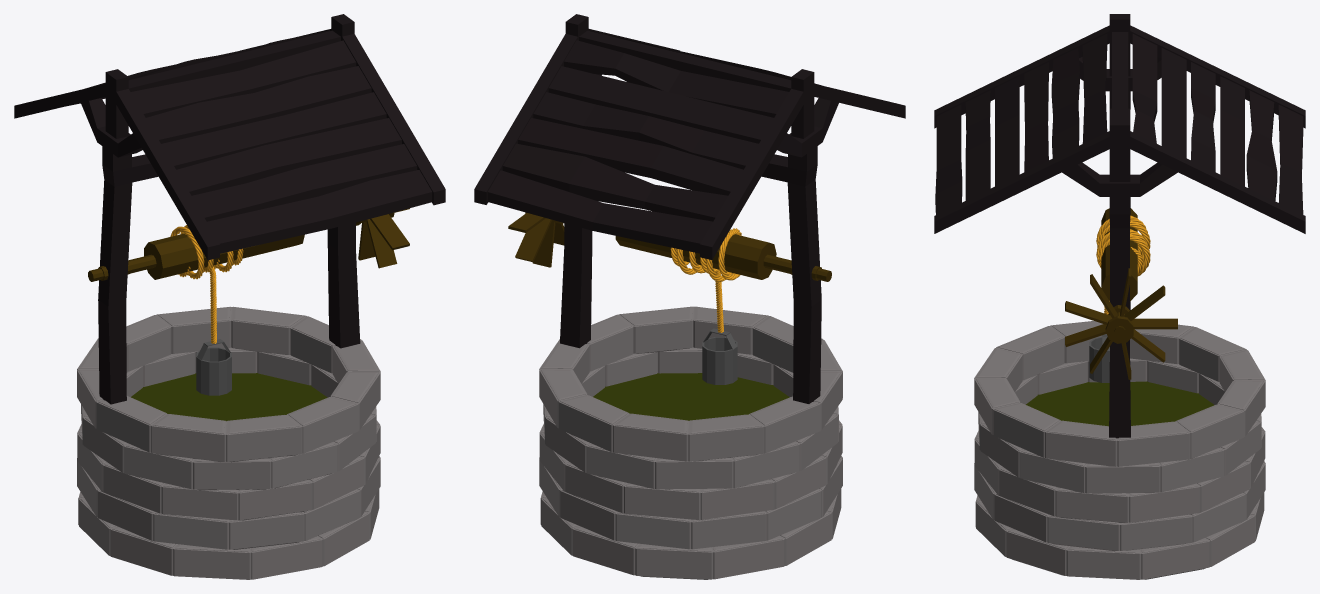
Rendered from Wells.fbx.
3 views of the same model, side by side, from view 1: azimuth 30°, elevation 25°; view 2: azimuth 150°, elevation 25°; view 3: azimuth 270°, elevation 25° (orthographic). The views are drawn at different scales.
Parts seen in each view (by area): view 1: Cylinder.002, Cylinder.006, Circle, Cylinder.001, Cylinder, Circle.001, Circle.002; view 2: Cylinder.002, Cylinder.006, Circle, Cylinder.001, Cylinder, Circle.001, Circle.002; view 3: Cylinder.006, Cylinder.002, Circle, Cylinder.001, Circle.001, Cylinder, Circle.002.
Boxes of the visible parts, x1,y1,x2,y2 form: Cylinder.002: (14,14,445,404); Cylinder.006: (77,306,380,579); Circle: (131,373,327,421); Cylinder.001: (88,208,409,281); Cylinder: (196,339,231,395); Circle.001: (209,248,243,343); Circle.002: (170,225,213,279); Cylinder.002: (474,14,905,403); Cylinder.006: (539,306,842,579); Circle: (593,373,789,420); Cylinder.001: (508,212,831,281); Cylinder: (702,328,737,384); Circle.001: (670,247,723,332); Circle.002: (700,228,741,281); Cylinder.006: (974,321,1265,579); Cylinder.002: (934,14,1305,438); Circle: (1026,381,1214,426); Cylinder.001: (1065,208,1177,379); Circle.001: (1096,229,1150,314); Cylinder: (1089,334,1109,382); Circle.002: (1096,215,1150,254).
Bounding box in the file's own units: 143 × 215 × 160.
